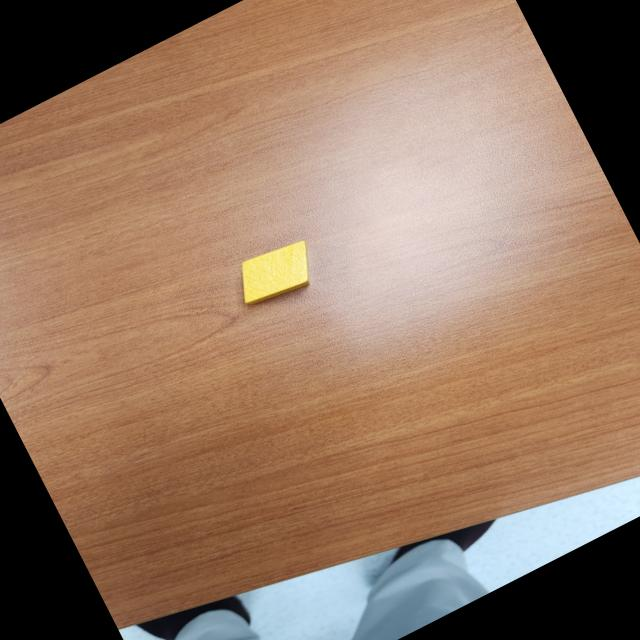yellow: (226, 233, 326, 318)
